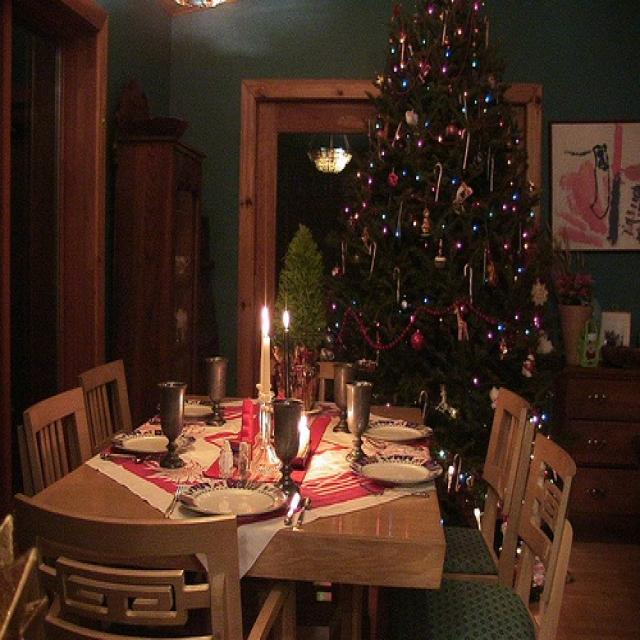chair: (14, 488, 291, 638), (420, 430, 575, 638), (432, 386, 532, 575)
diningtable: (32, 389, 444, 638)
